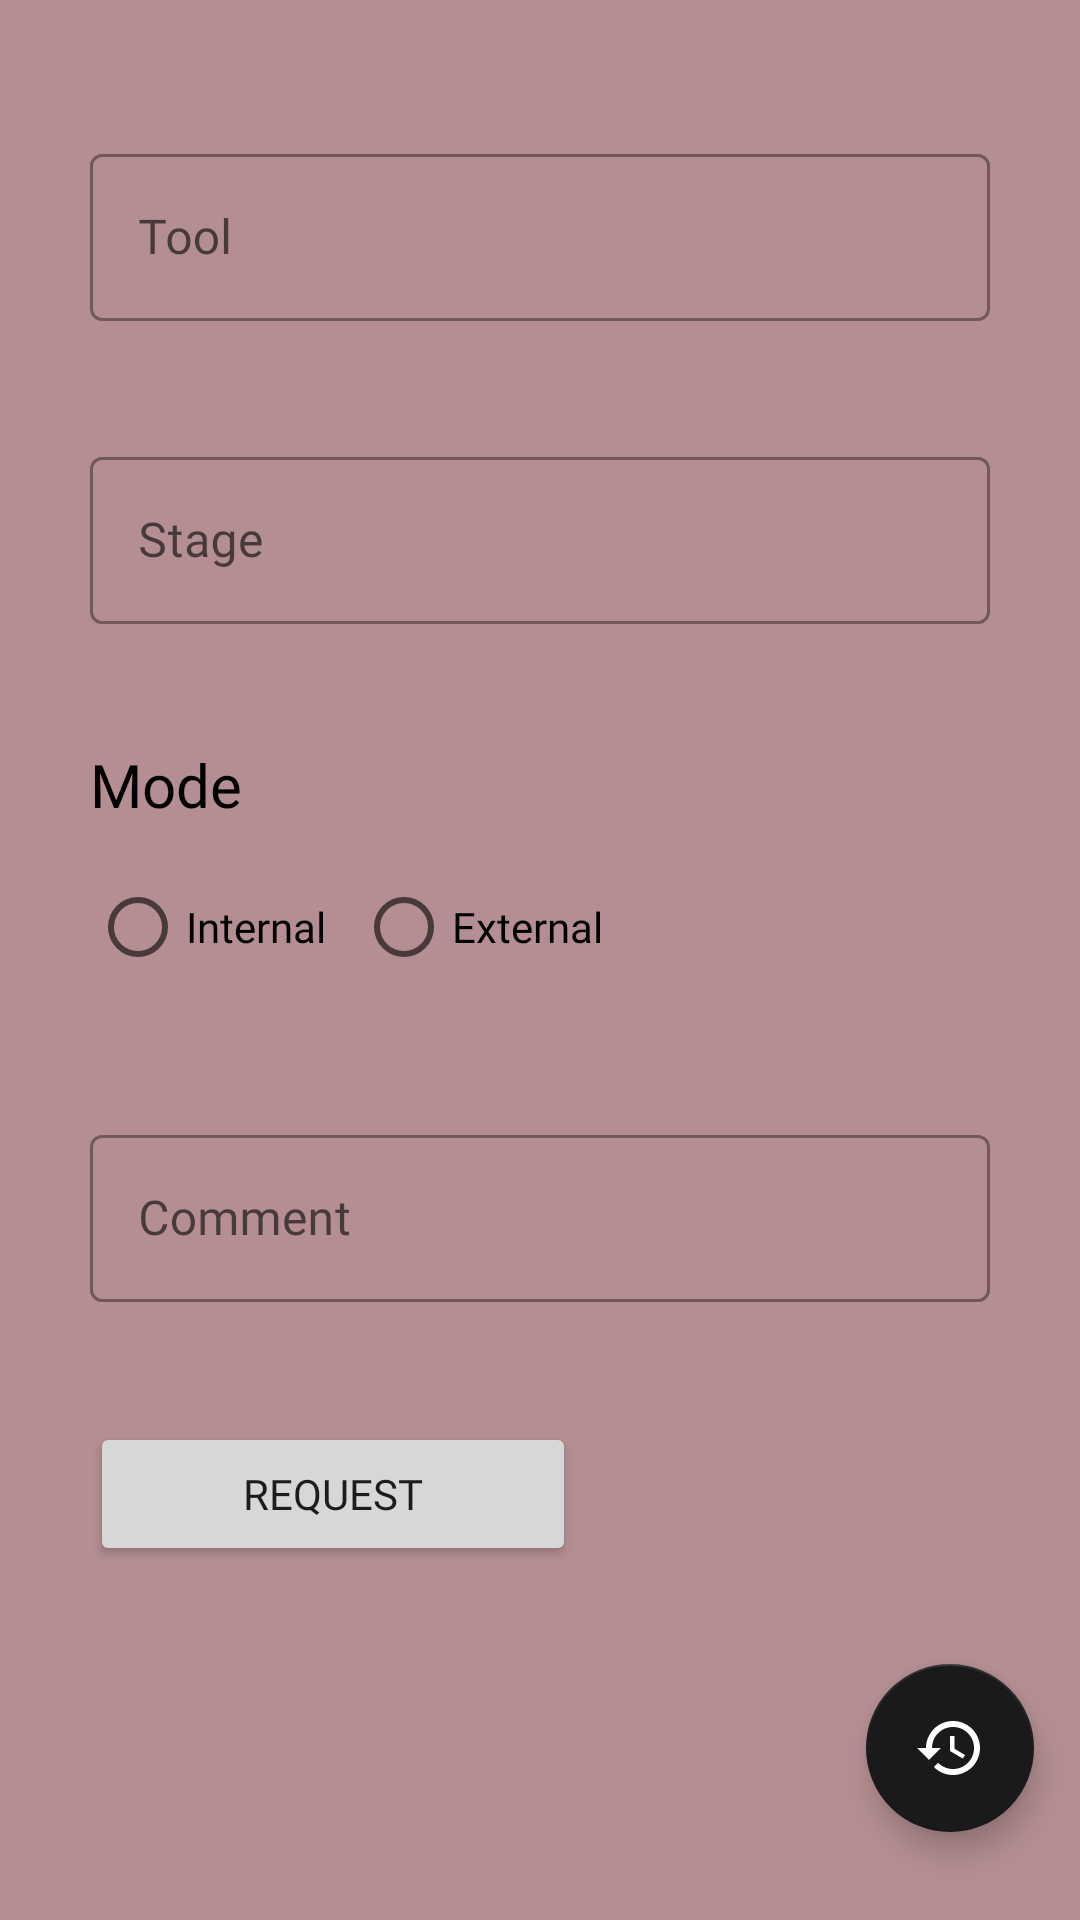

Where icons sit on this 1080px x 1920px app screen, as (x1, y1, x2, y2):
history: (866, 1664, 1034, 1832)
